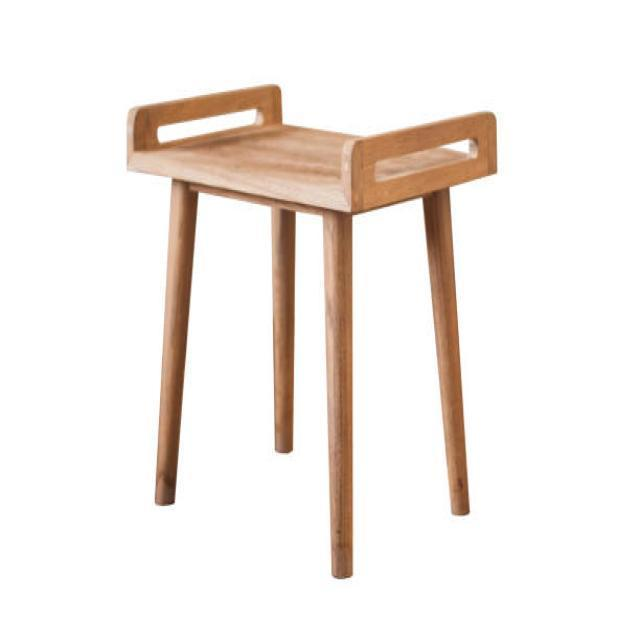table: (125, 84, 498, 578)
